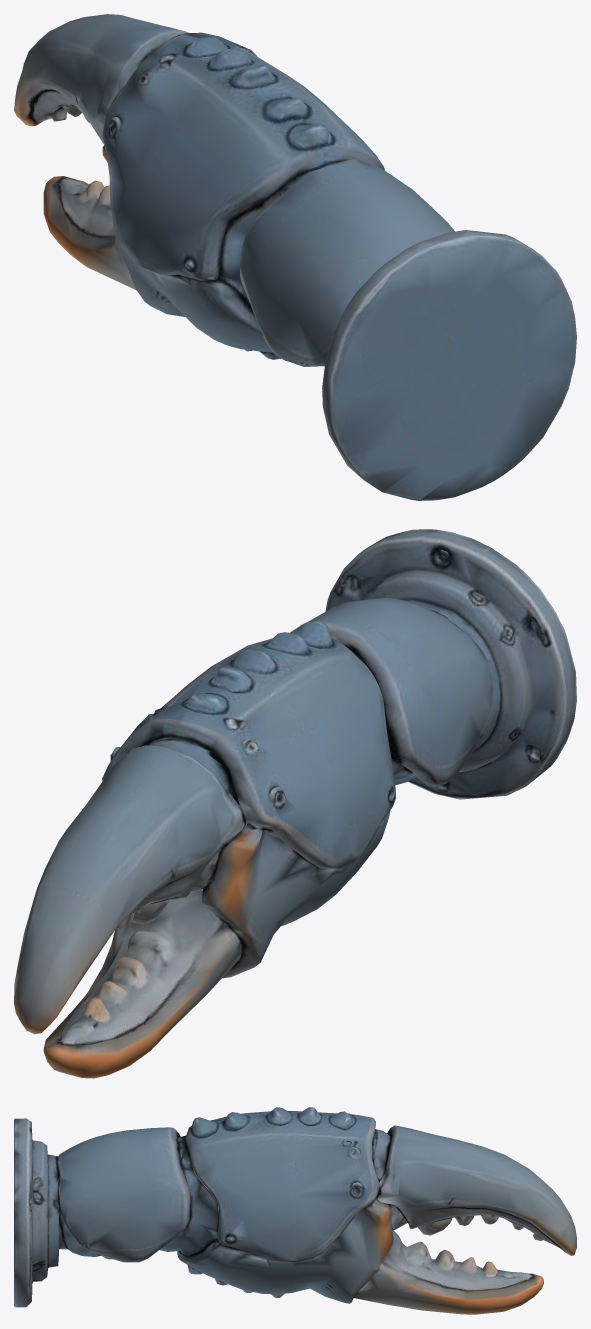
The model's file is claw_small.glb.
3 views of the same model, one above another, from view 1: azimuth 30°, elevation 25°; view 2: azimuth 150°, elevation 25°; view 3: azimuth 270°, elevation 25° (orthographic). The views are drawn at different scales.
Parts seen in each view (by area): view 1: tripo_node_9c9fc0a9-154a-491e-9bab-77d109c75334; view 2: tripo_node_9c9fc0a9-154a-491e-9bab-77d109c75334; view 3: tripo_node_9c9fc0a9-154a-491e-9bab-77d109c75334.
Boxes of the visible parts, x1,y1,x2,y2 form: tripo_node_9c9fc0a9-154a-491e-9bab-77d109c75334: (14, 14, 576, 500); tripo_node_9c9fc0a9-154a-491e-9bab-77d109c75334: (14, 529, 576, 1078); tripo_node_9c9fc0a9-154a-491e-9bab-77d109c75334: (14, 1107, 576, 1314).
Bounding box in the file's own units: 0.3348 × 0.3941 × 0.9997.
1 material, 1 textured.
